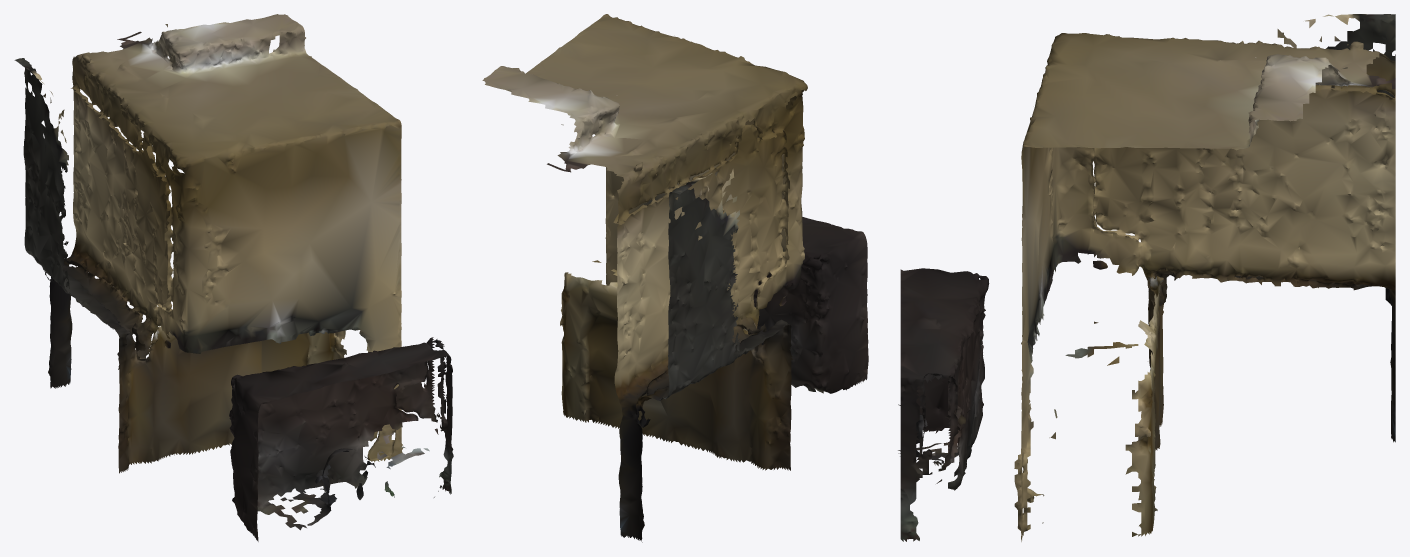
Rendered from medium.glb.
3 renders of one model, left to right at view 1: azimuth 30°, elevation 25°; view 2: azimuth 150°, elevation 25°; view 3: azimuth 270°, elevation 25°, orthographic. The views are drawn at different scales.
Bounding box in the file's own units: 0.8855 × 1.31 × 1.39.
